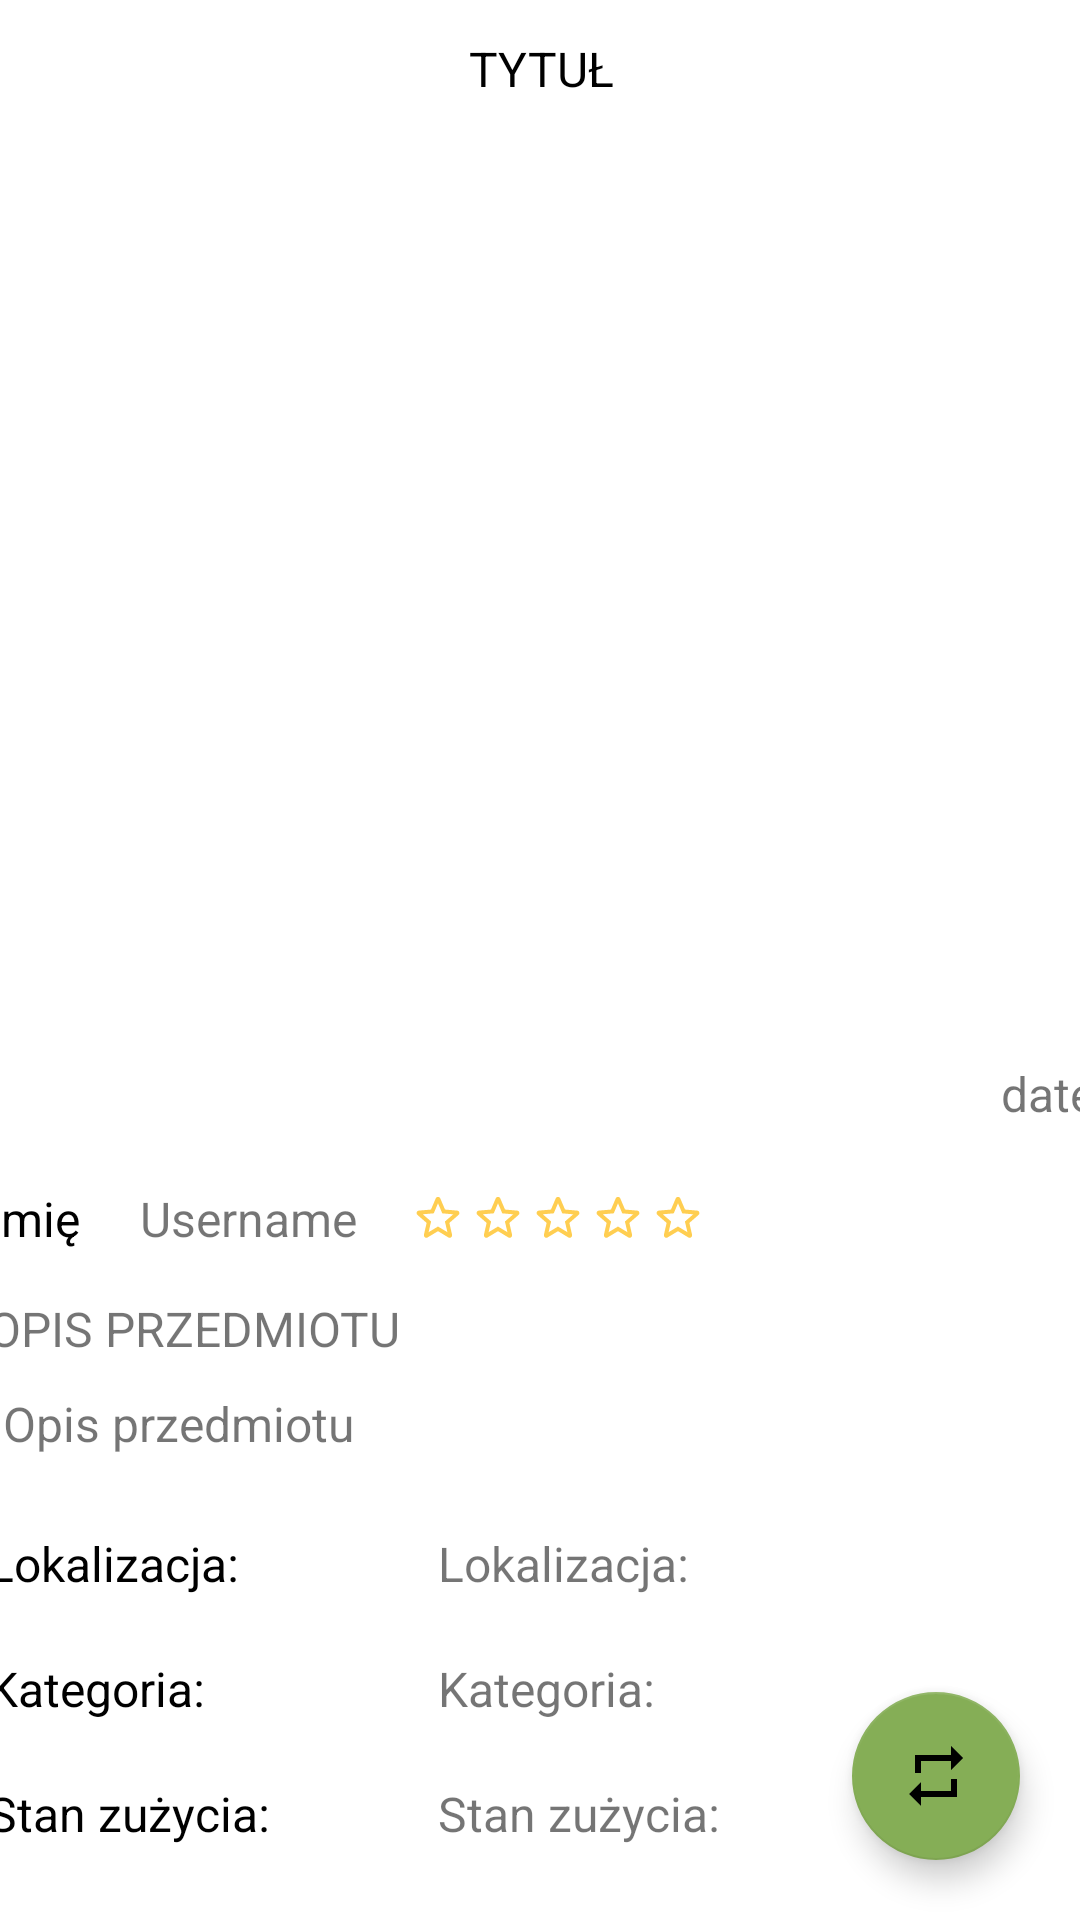

Icon bounding boxes for this 1080px x 1920px phone screenshot, format [x1=x1, y1=y1, x2=x2, y2=y2]:
repeat: [x1=852, y1=1692, x2=1020, y2=1860]
star: [x1=416, y1=1197, x2=460, y2=1238], [x1=476, y1=1197, x2=520, y2=1238], [x1=536, y1=1197, x2=580, y2=1238], [x1=596, y1=1197, x2=640, y2=1238], [x1=656, y1=1197, x2=700, y2=1238]
